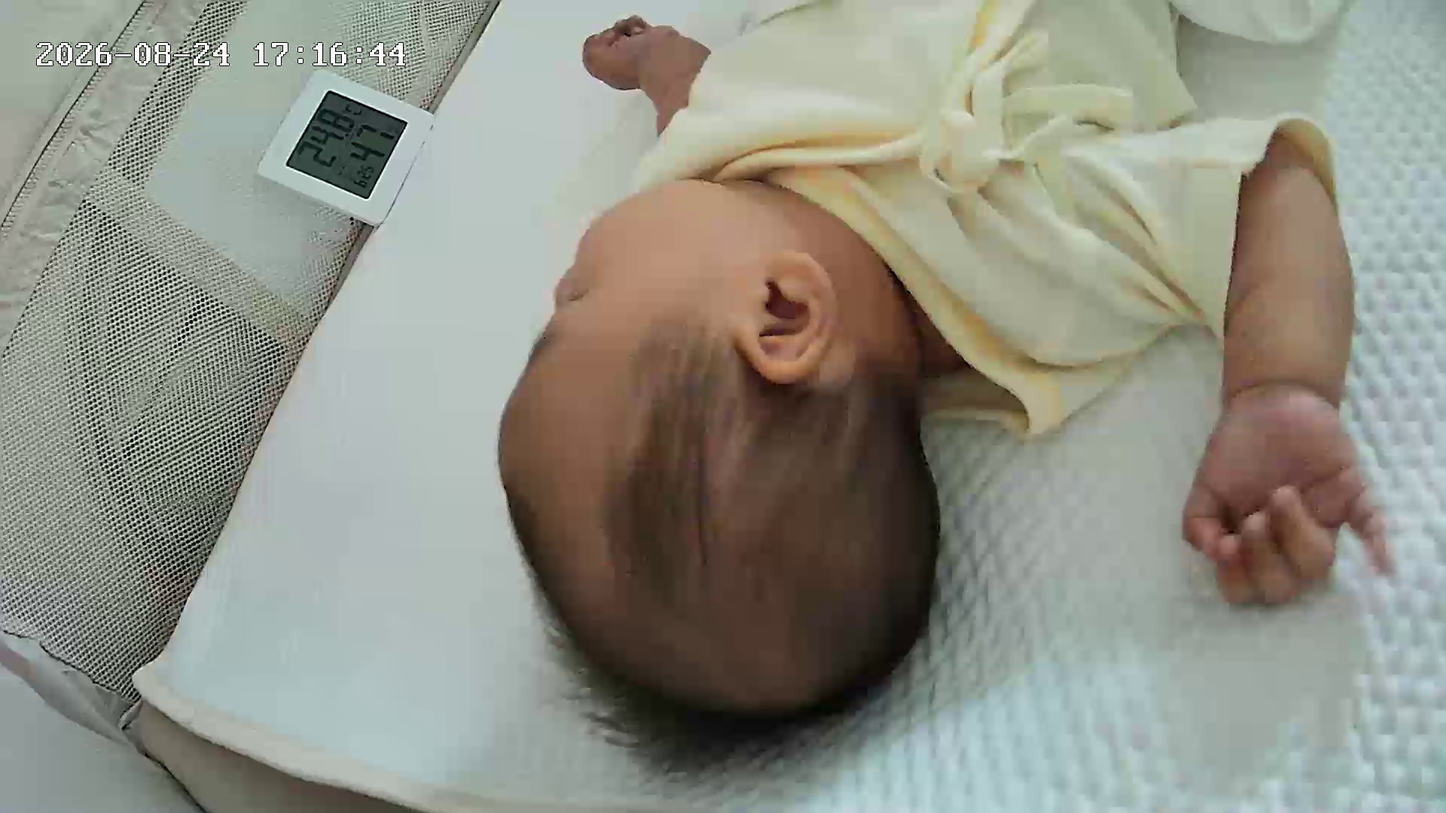baby: (28, 0, 1058, 788), (451, 0, 1410, 772)
baby_face: (495, 153, 966, 749)
